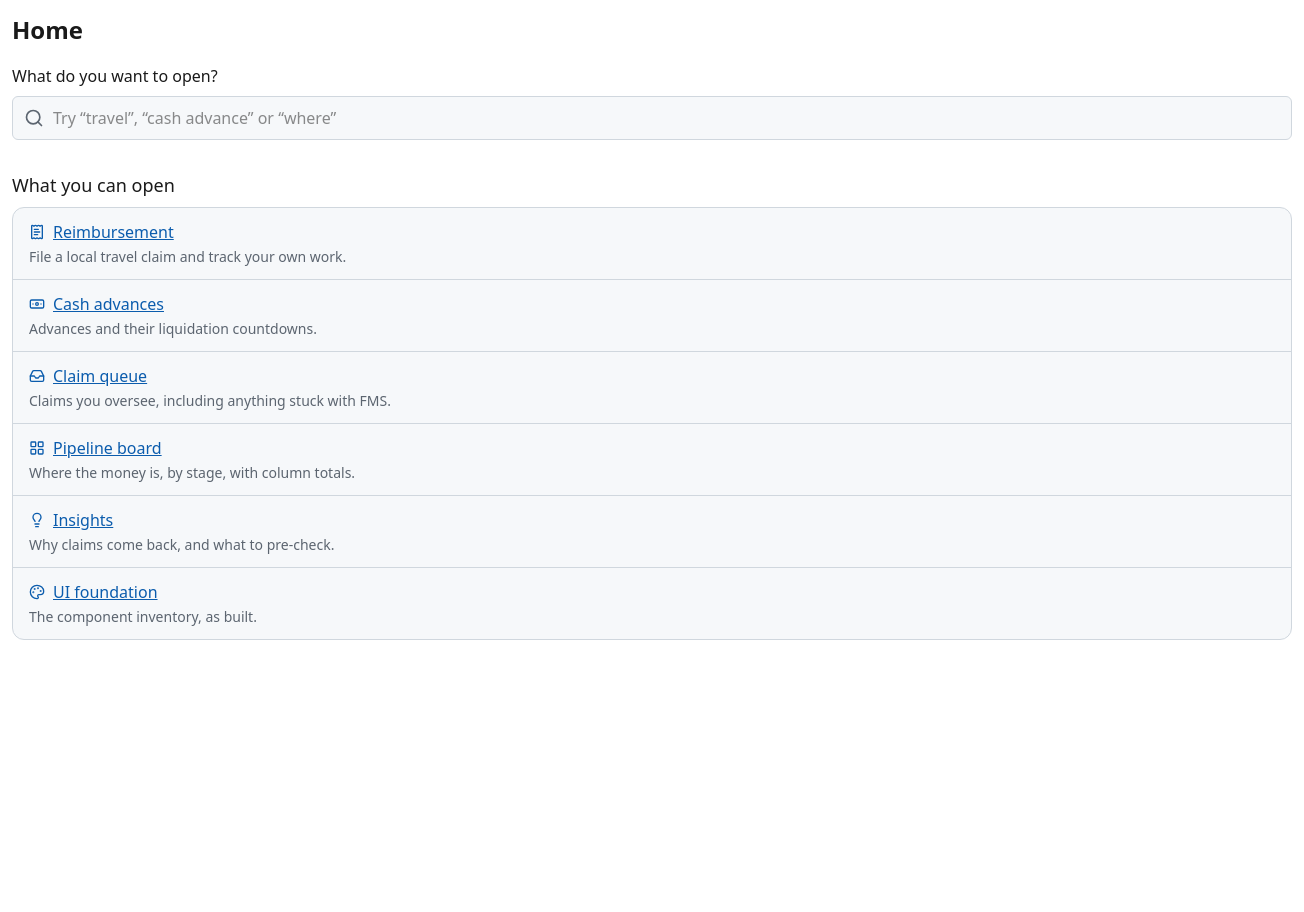
Test case: HomePage › refuses a query that matches nothing and then names everything openable
The width and height of the screenshot is (1304, 912).
Type "zzz" into the search field labelled "What do you want to open?".
click(652, 118); type("zzz")  # box x1=12 y1=96 x2=1292 y2=140
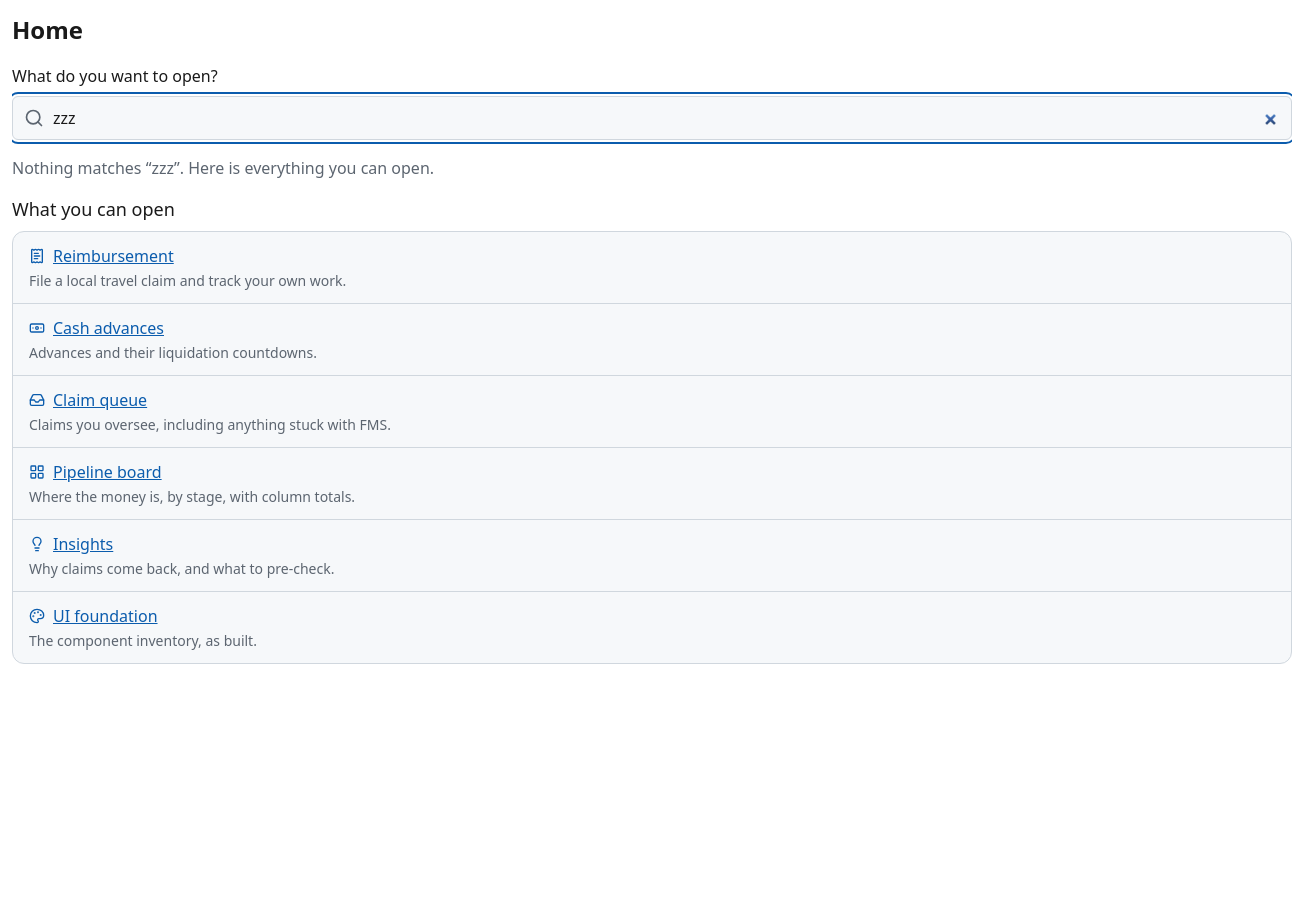
Expected: the number of links "Reimbursement" is 1, x1=29 y1=245 x2=346 y2=290
Now the message reads "Nothing matches “zzz”. Here is everything you can open.", box x1=12 y1=157 x2=434 y2=179
